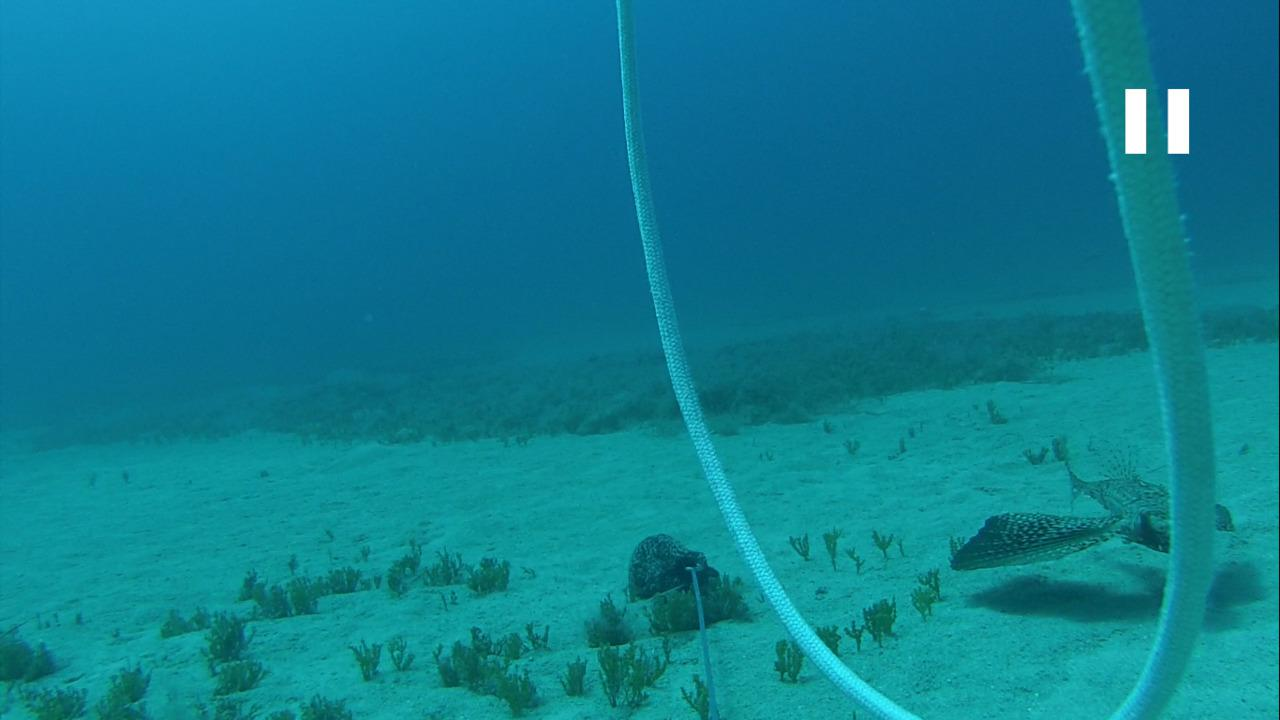dactylopterus: (942, 456, 1189, 573)
